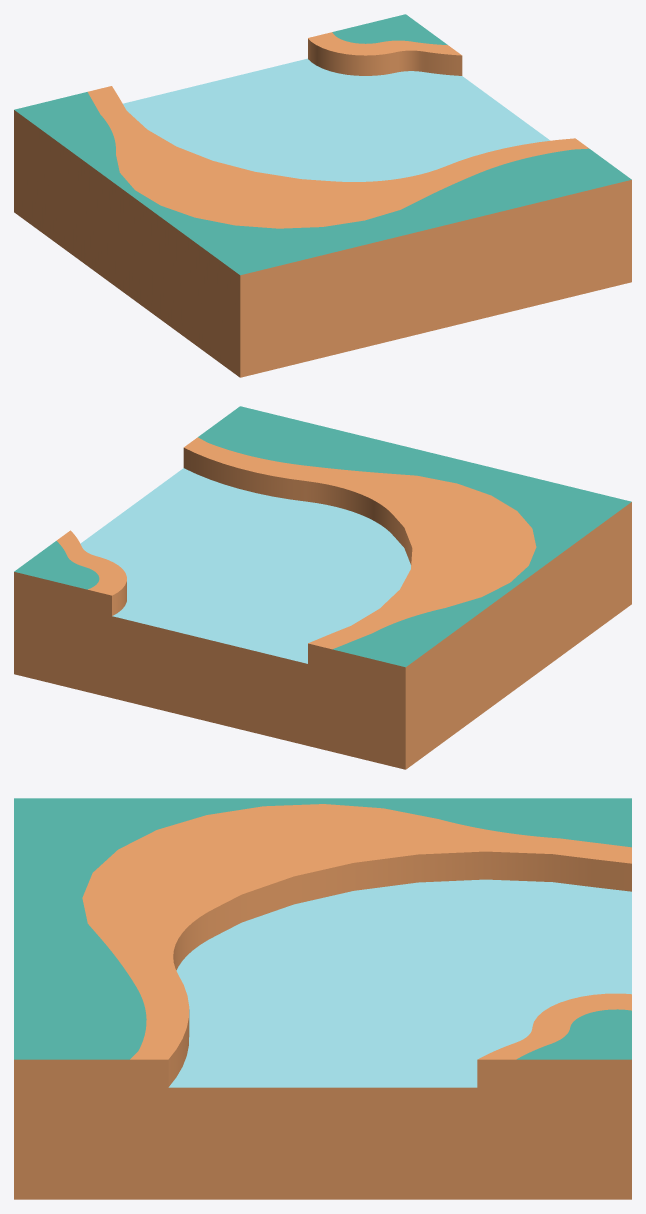
Rendered from ground_dirtRiverCornerBank.fbx.
The picture shows the model from 3 angles, top to bottom: view 1: azimuth 30°, elevation 25°; view 2: azimuth 150°, elevation 25°; view 3: azimuth 270°, elevation 25°; orthographic projection. The views are drawn at different scales.
Visible parts, largest first — view 1: ground_dirtRiverCornerBank; view 2: ground_dirtRiverCornerBank; view 3: ground_dirtRiverCornerBank.
Part boxes in pixels (left/top/right/bottom): ground_dirtRiverCornerBank: left=14, top=14, right=631, bottom=377; ground_dirtRiverCornerBank: left=14, top=406, right=631, bottom=769; ground_dirtRiverCornerBank: left=14, top=798, right=631, bottom=1199.
Size of the model in its own units: 10 by 2.5 by 10.
